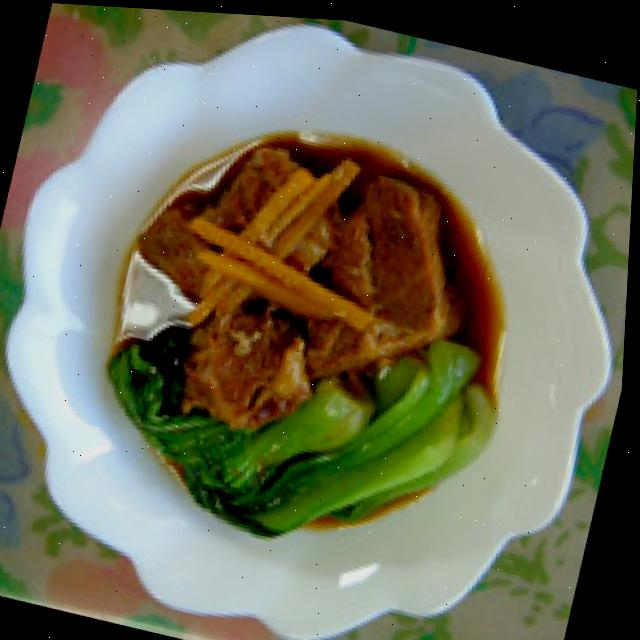猪肉菜式: (71, 86, 555, 589)
